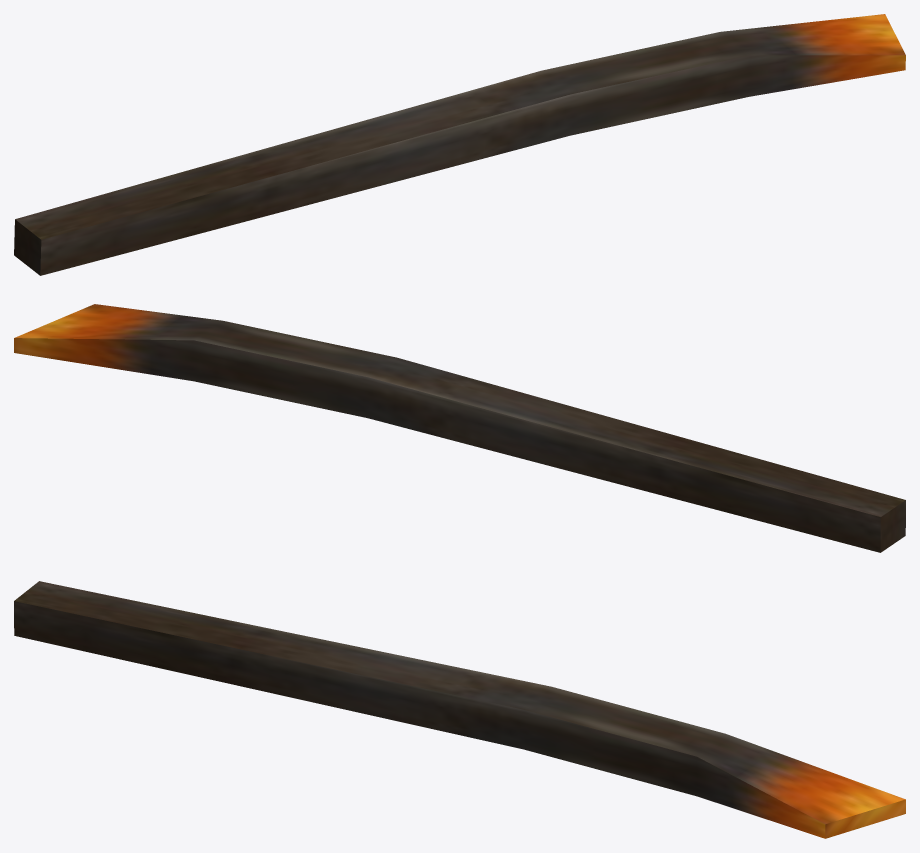
The model's file is shop_bsmith_hot_iron.fbx.
The picture shows the model from 3 angles, top to bottom: view 1: azimuth 30°, elevation 25°; view 2: azimuth 150°, elevation 25°; view 3: azimuth 330°, elevation 25°; orthographic projection. The views are drawn at different scales.
Parts seen in each view (by area): view 1: shop_bsmith_metal_rod; view 2: shop_bsmith_metal_rod; view 3: shop_bsmith_metal_rod.
Boxes of the visible parts, box(x1,y1,x2,y2) form: shop_bsmith_metal_rod: box(14, 14, 905, 275); shop_bsmith_metal_rod: box(14, 304, 905, 552); shop_bsmith_metal_rod: box(14, 581, 905, 838).
Size of the model in its own units: 268 by 16.15 by 27.56.
1 material, 1 textured.
